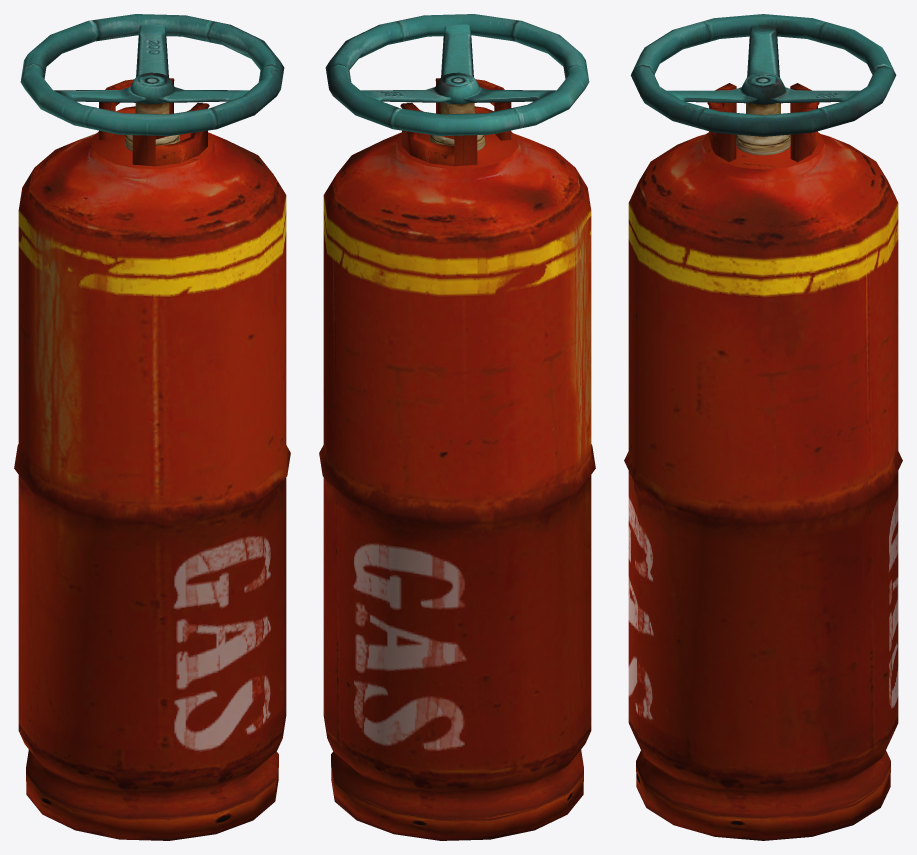
The model's file is gas_tank.obj.
The picture shows the model from 3 angles, left to right: view 1: azimuth 30°, elevation 25°; view 2: azimuth 150°, elevation 25°; view 3: azimuth 270°, elevation 25°; orthographic projection.
Parts seen in each view (by area): view 1: gastank, valve; view 2: gastank, valve; view 3: gastank, valve.
Boxes of the visible parts, x1,y1,x2,y2 form: gastank: (14, 78, 290, 840); valve: (20, 14, 284, 135); gastank: (319, 78, 595, 840); valve: (325, 14, 589, 135); gastank: (624, 83, 902, 840); valve: (630, 14, 896, 136).
Size of the model in its own units: 1.26 by 3.59 by 1.26.
2 materials, 2 textured.
